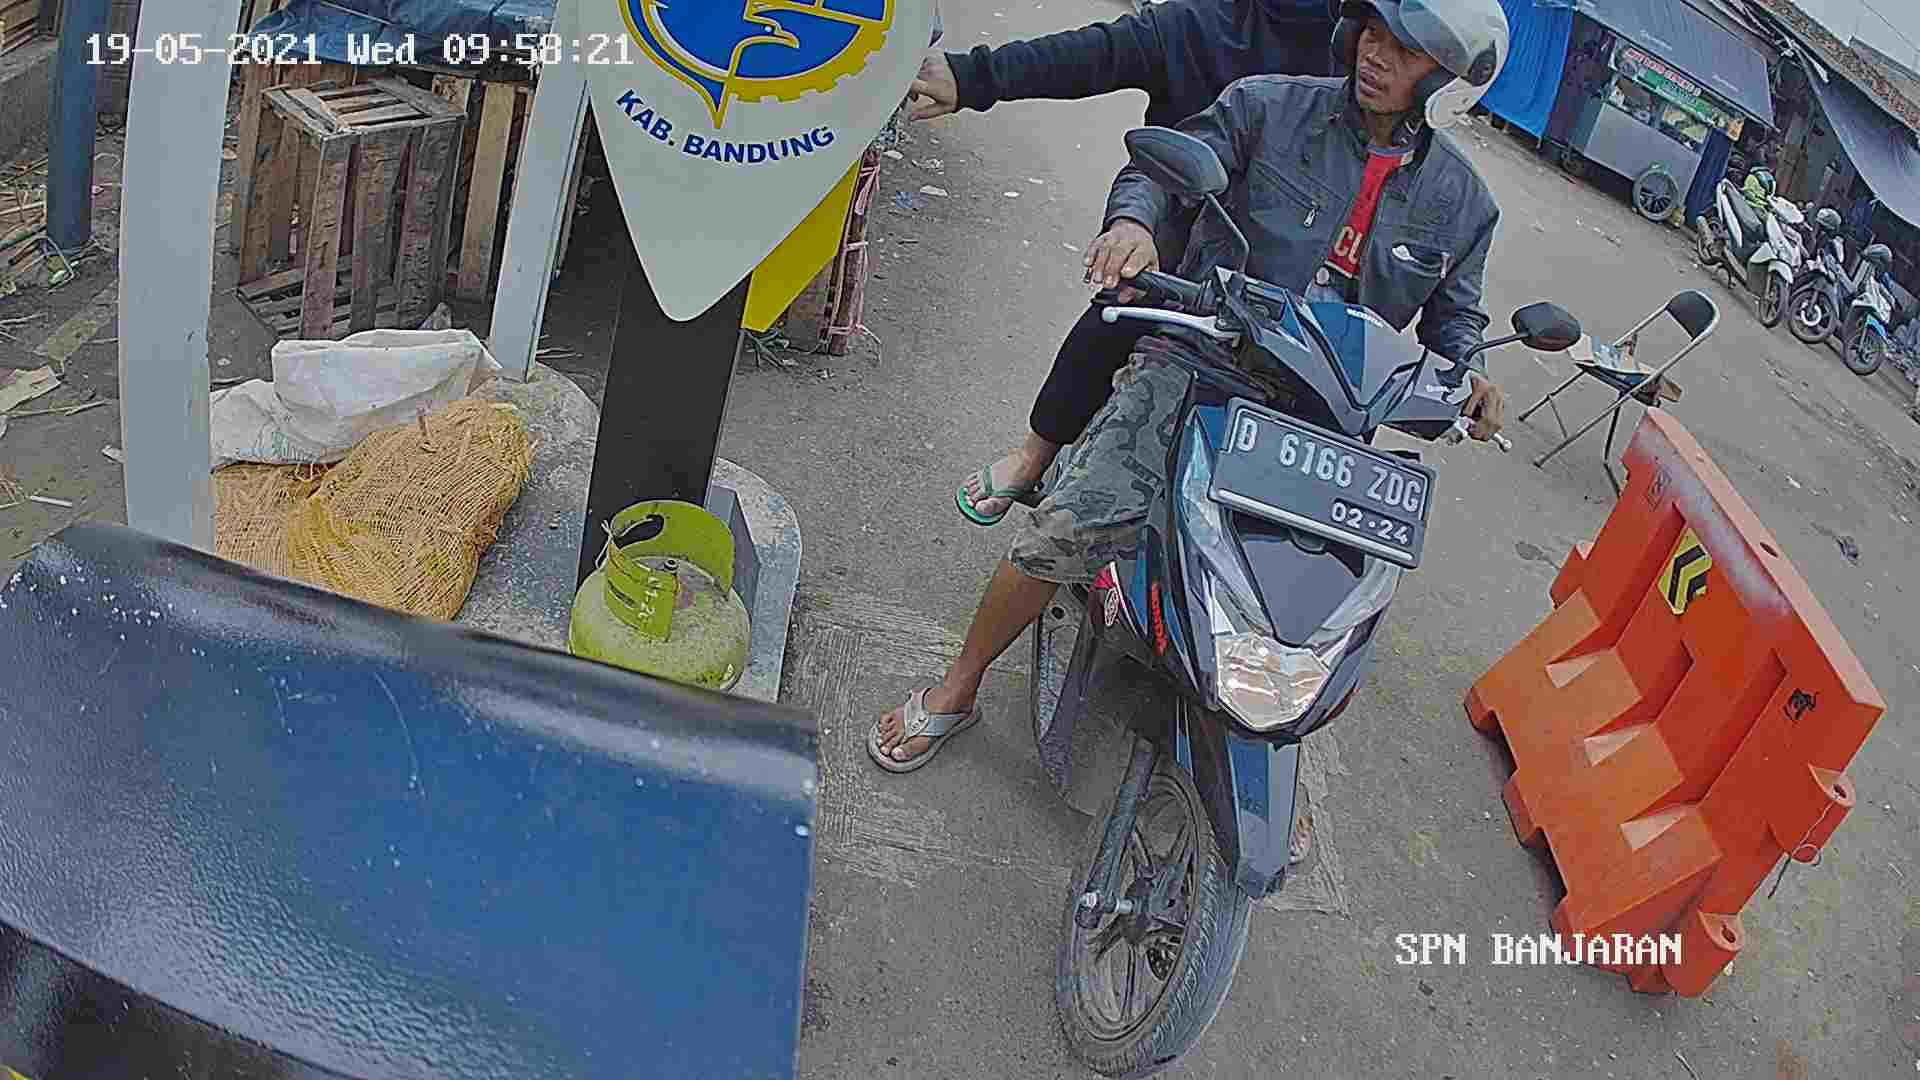motor: (1025, 215, 1451, 1080)
